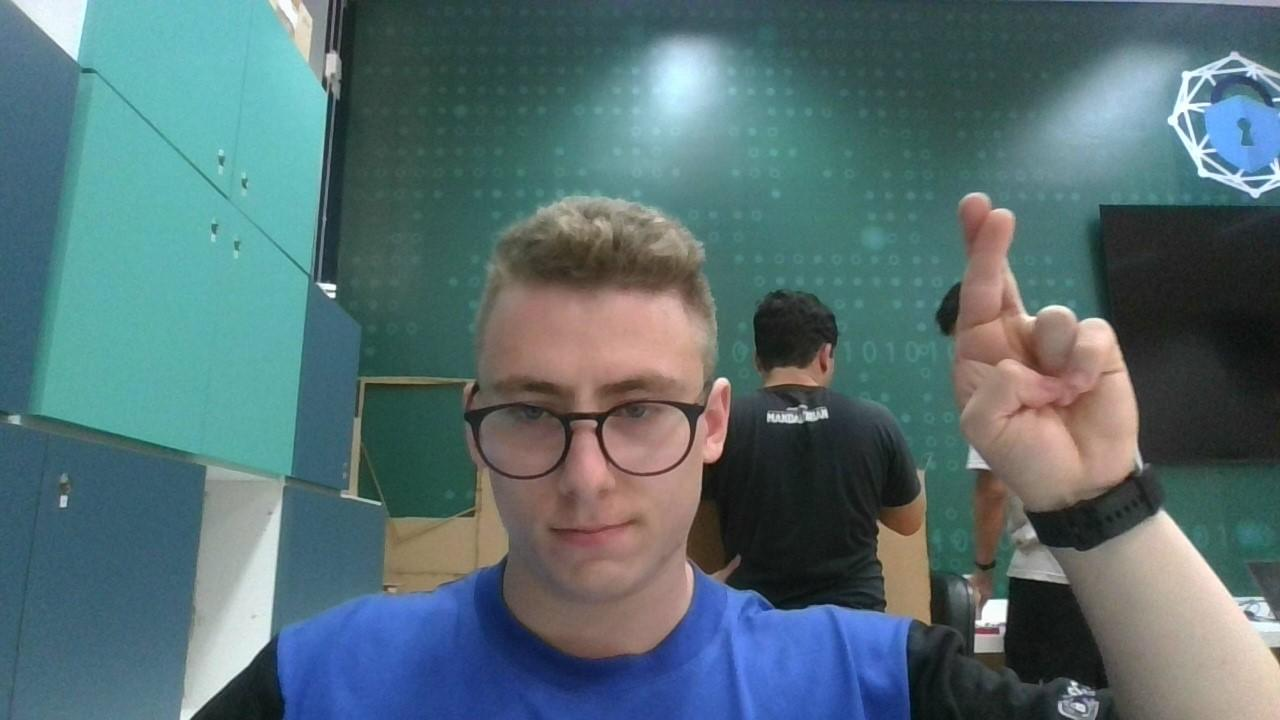R: (948, 188, 1152, 502)
